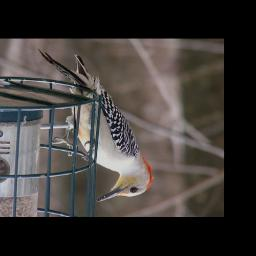Woodpecker: (38, 48, 156, 205)
